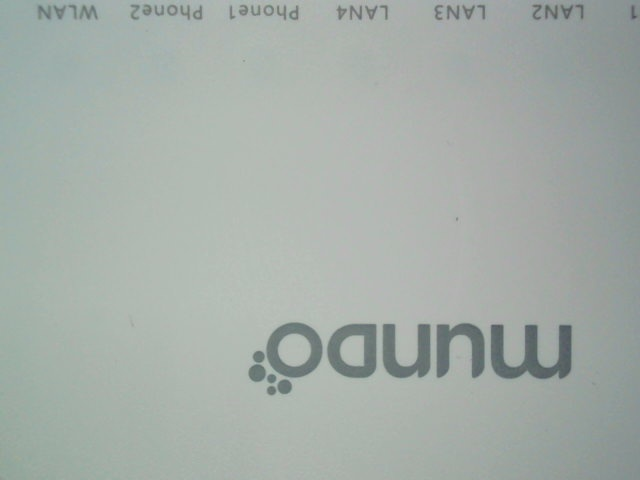BI_MUNDO: (237, 308, 579, 404)
